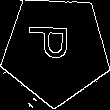P_E: (31, 30, 80, 69)
